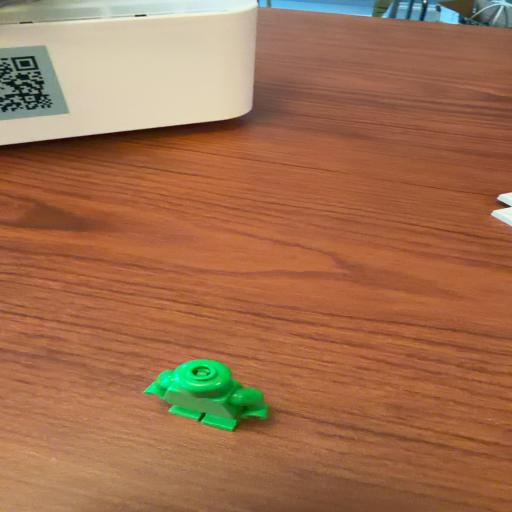UnoQ-minifig-detector: (143, 359, 274, 431)
